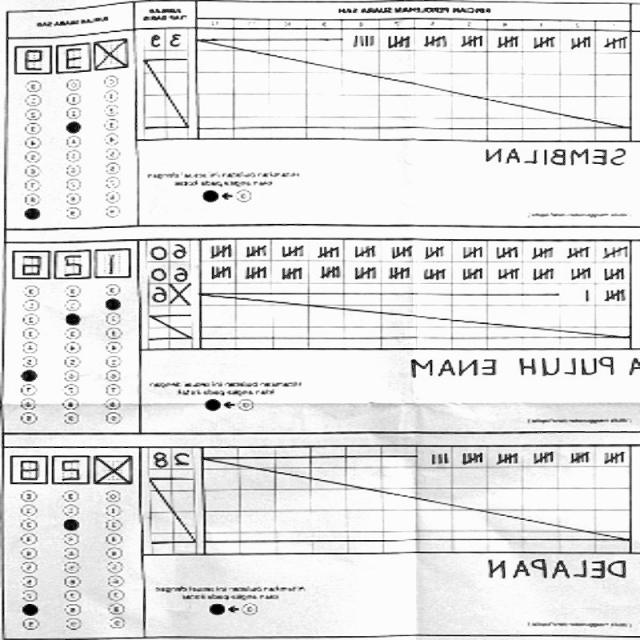Suara: (12, 29, 131, 77), (10, 241, 134, 283), (9, 449, 139, 486)
